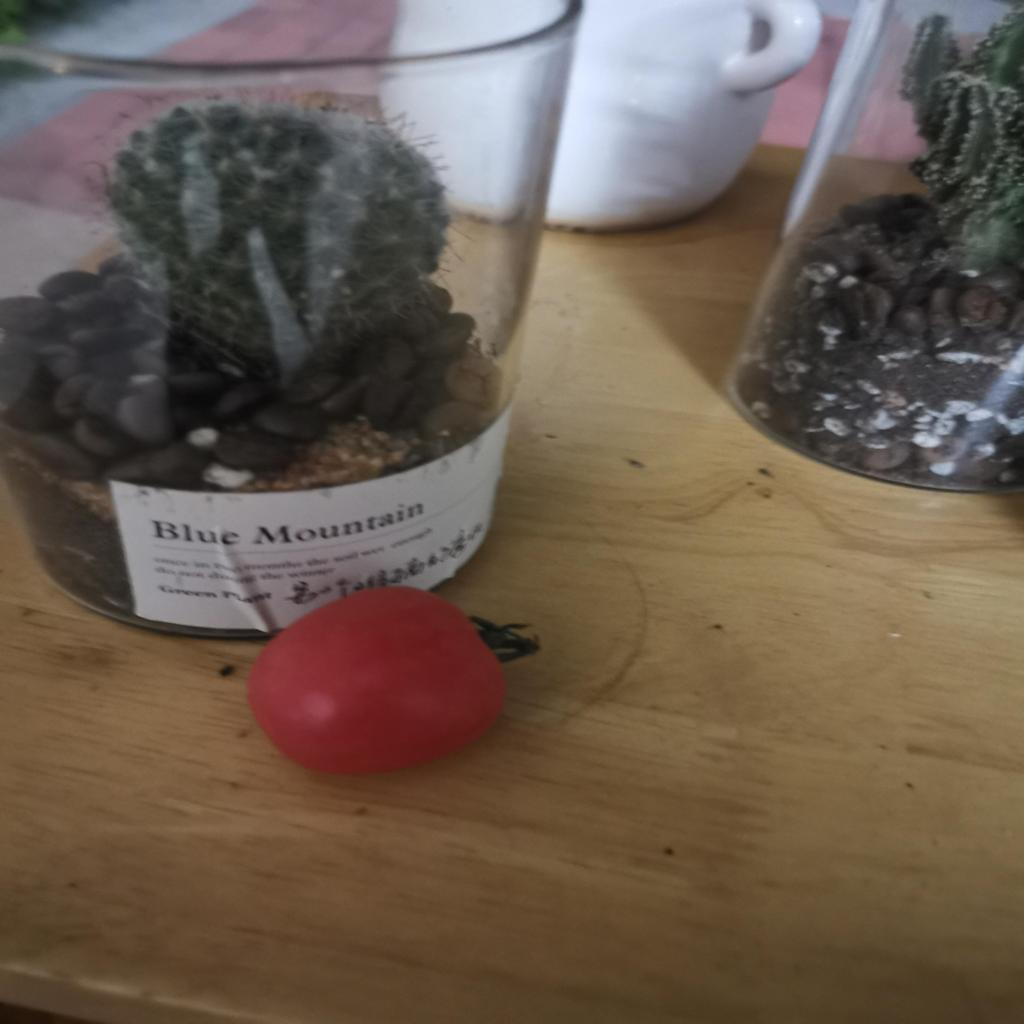tomato: (252, 587, 512, 773)
